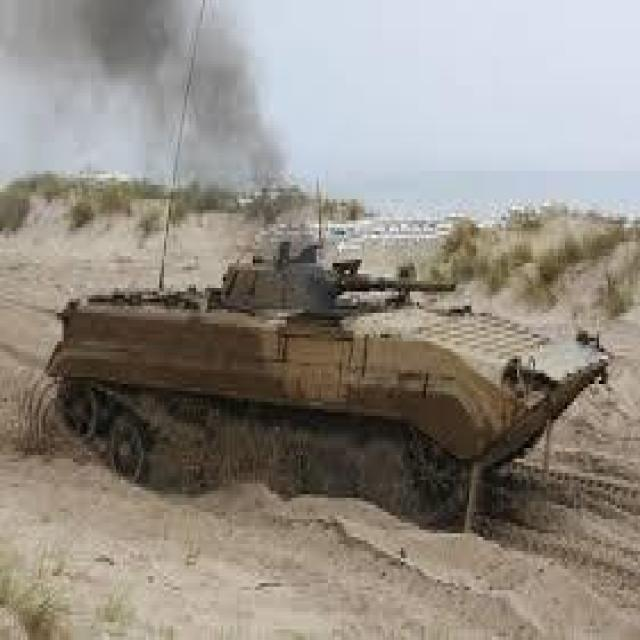MIL_MBT: (32, 210, 604, 526)
